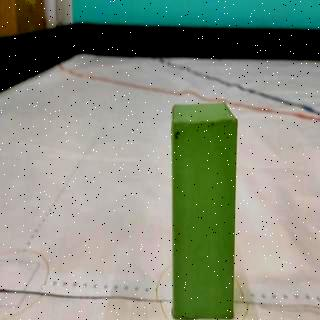greenbox: (169, 105, 236, 320)
